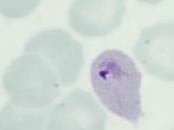Infected: (89, 48, 145, 126)
Uninfected: (22, 29, 82, 89), (4, 54, 60, 108), (48, 88, 105, 130), (135, 22, 174, 82), (67, 0, 126, 38)
